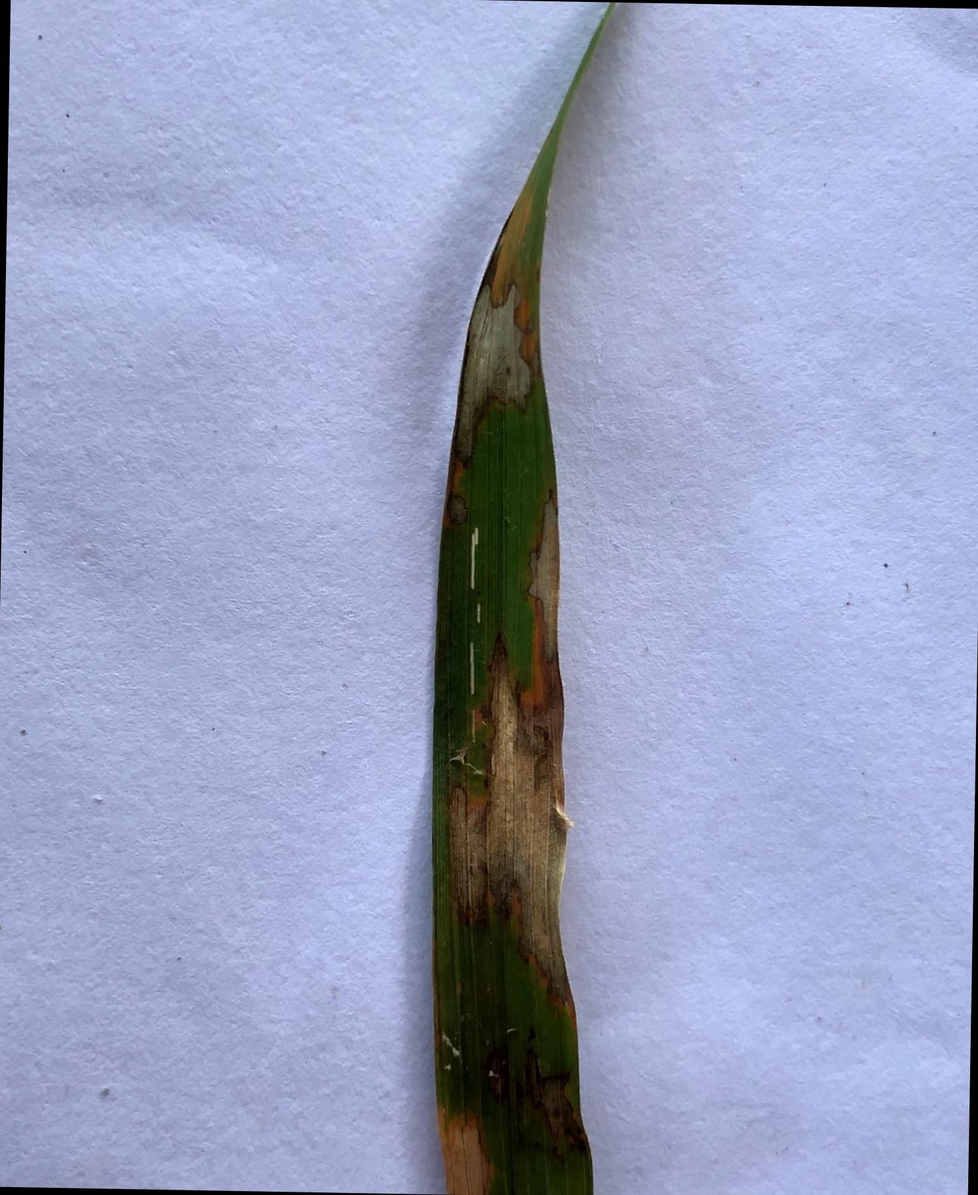Leaf Blight: (423, 484, 592, 1028), (434, 232, 534, 515), (431, 1058, 515, 1195)
